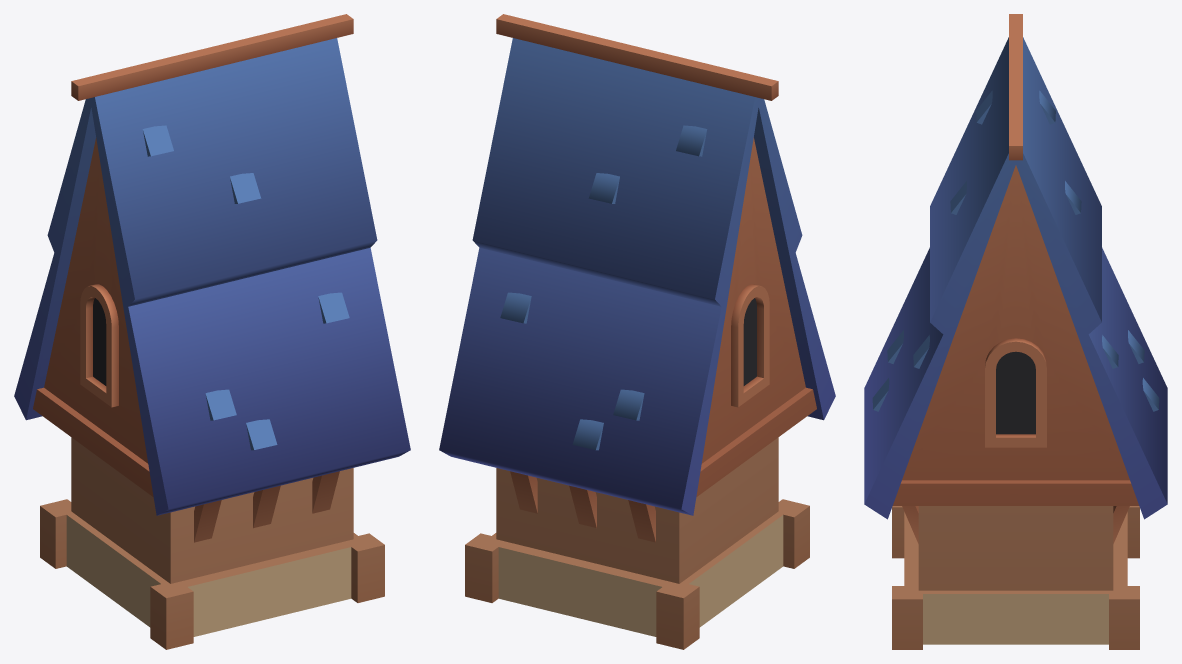
The model's file is tower-slant-roof.glb.
3 renders of one model, left to right at view 1: azimuth 30°, elevation 25°; view 2: azimuth 150°, elevation 25°; view 3: azimuth 270°, elevation 25°, orthographic.
Visible parts, largest first — view 1: tower-slant-roof; view 2: tower-slant-roof; view 3: tower-slant-roof.
Part boxes in pixels (box(x1,y1,x2,y2)): tower-slant-roof: box(14, 14, 410, 649); tower-slant-roof: box(439, 14, 835, 649); tower-slant-roof: box(864, 14, 1167, 649).
Bounding box in the file's own units: 1.17 × 2.14 × 1.14.
